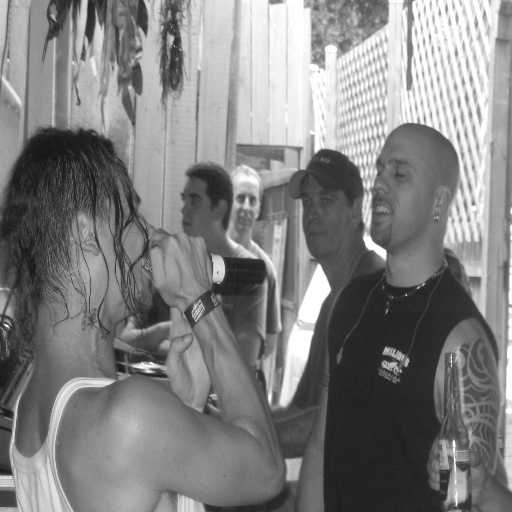hand: (134, 233, 214, 321), (425, 429, 488, 506), (165, 305, 212, 407)
